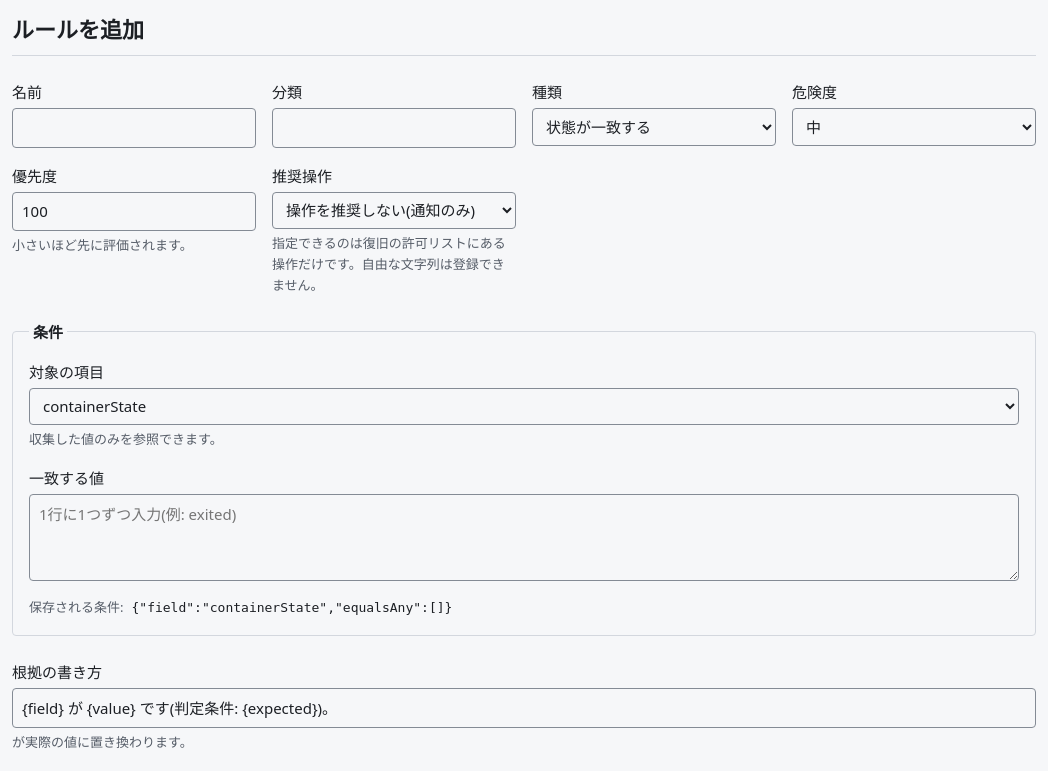
it: RuleEditView › 正規表現ルールではパターンの欄に切り替わる
Select "ログが文字列に一致する" in the dropdown with id "rule-type" at (654, 127), box [532, 108, 776, 146]
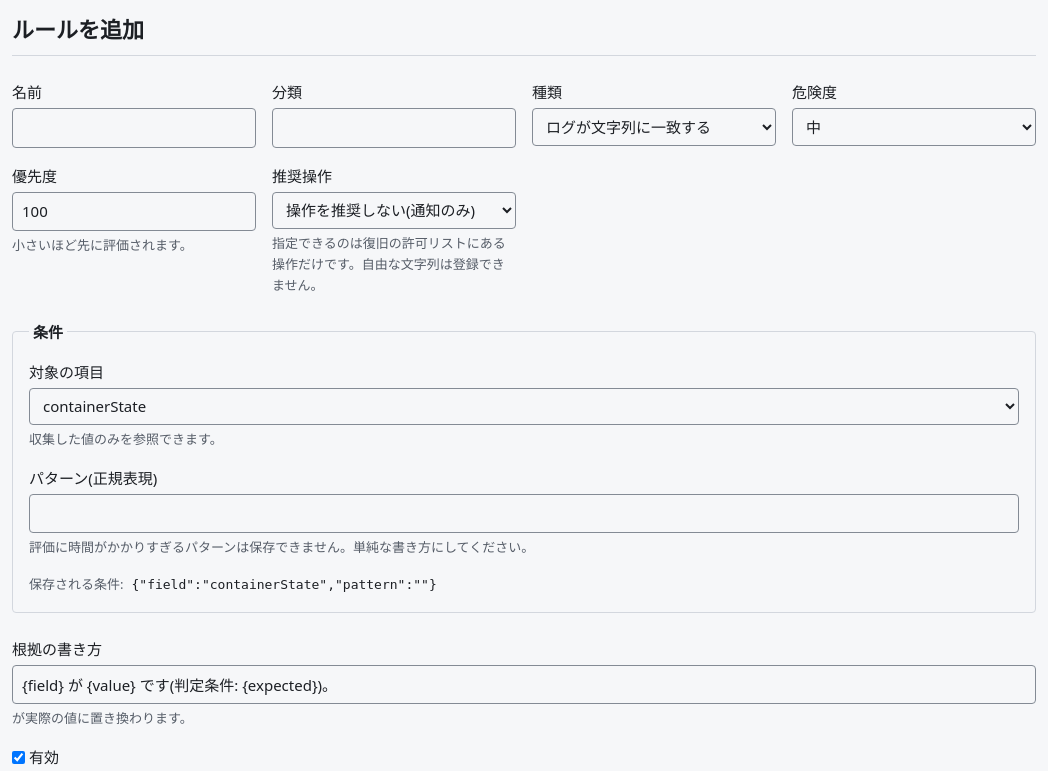
Select "logExcerpt" in the dropdown with id "condition-field" at (524, 406), box [29, 388, 1019, 425]
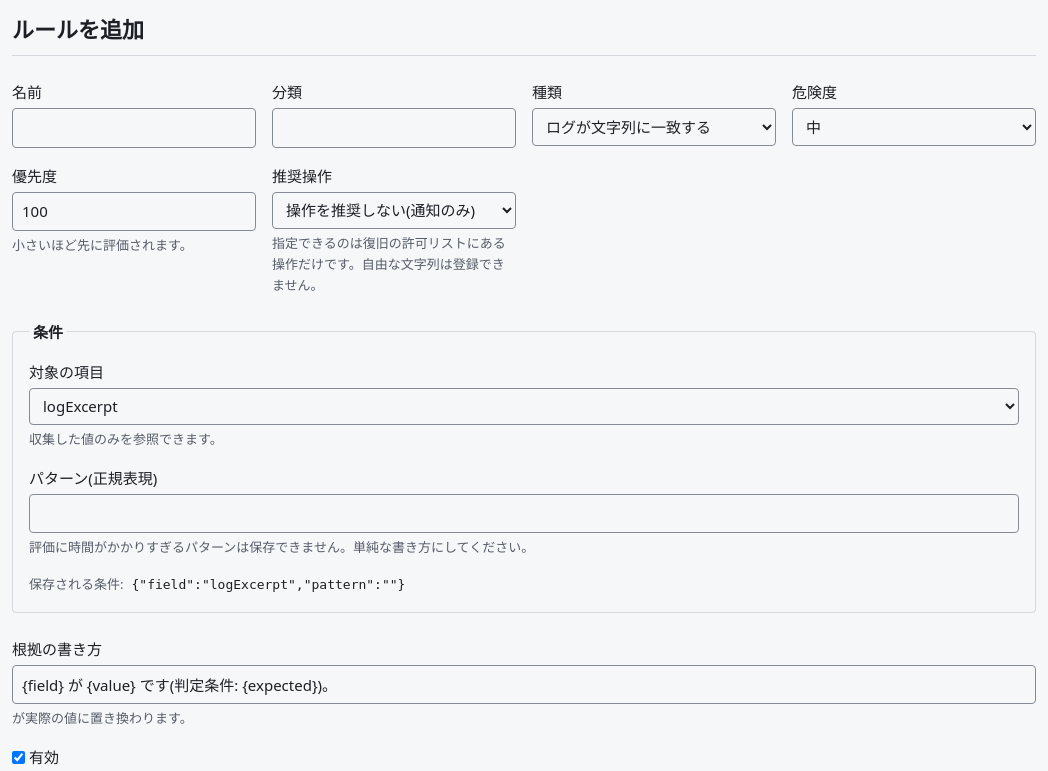
Type "(?i)out of memory" into the field with id "condition-pattern" at (524, 514), box [29, 494, 1019, 533]
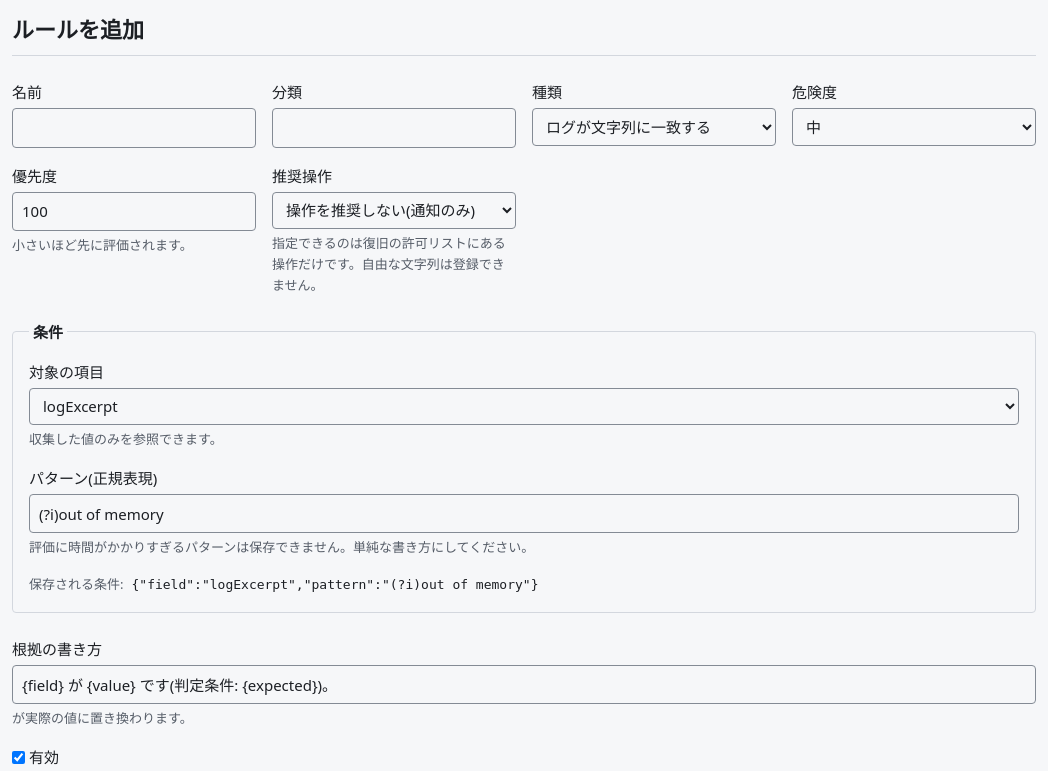
Result: the text with test id "condition-preview" reads "{\"field\":\"logExcerpt\",\"pattern\":\"(?i)out of memory\"}" at [132, 577, 538, 592]
